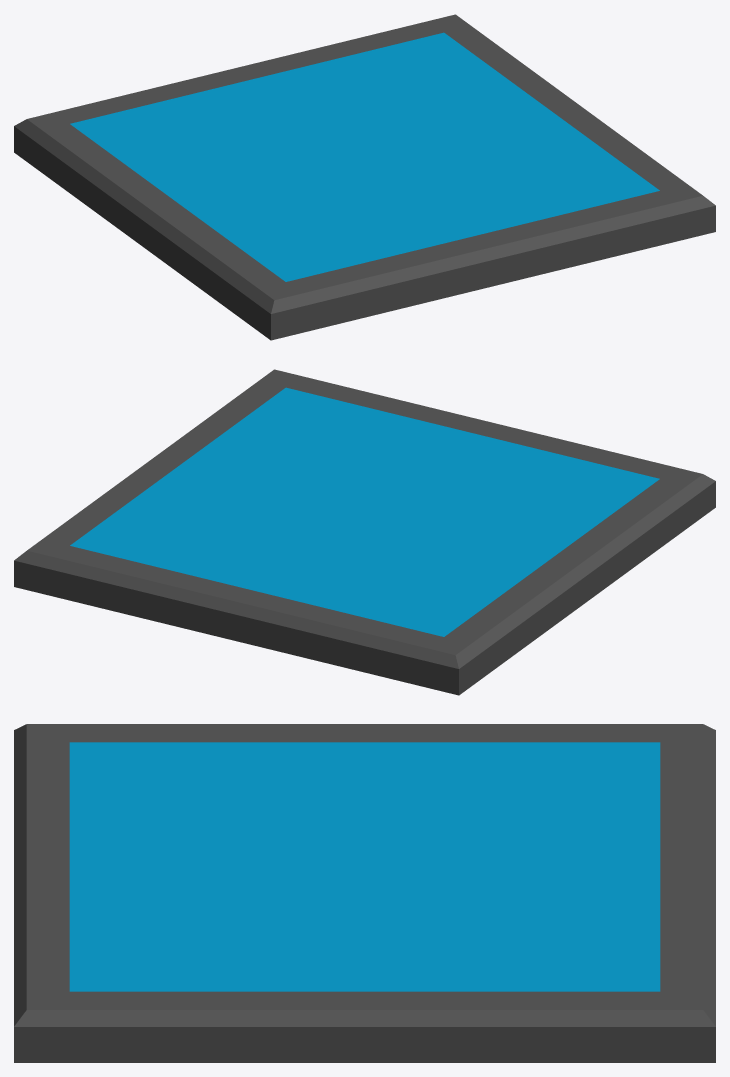
Rendered from tile.fbx.
3 views of the same model, one above another, from view 1: azimuth 30°, elevation 25°; view 2: azimuth 150°, elevation 25°; view 3: azimuth 270°, elevation 25° (orthographic). The views are drawn at different scales.
Visible parts, largest first — view 1: Cube; view 2: Cube; view 3: Cube.
Boxes of the visible parts, x1,y1,x2,y2 form: Cube: [14, 14, 715, 340]; Cube: [14, 369, 715, 695]; Cube: [14, 724, 715, 1062].
Size of the model in its own units: 2 by 0.1499 by 2.
